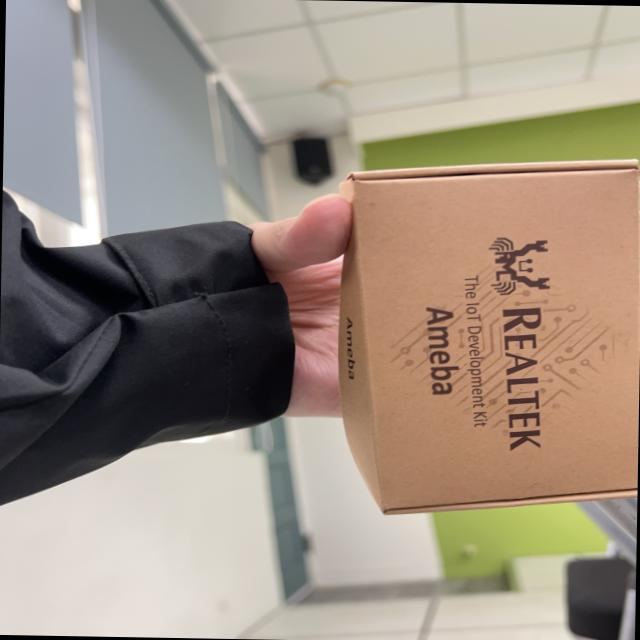box: (317, 145, 640, 539)
